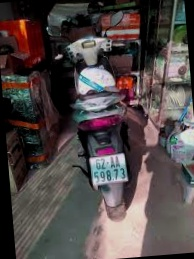Bien-so: (79, 152, 122, 184)
